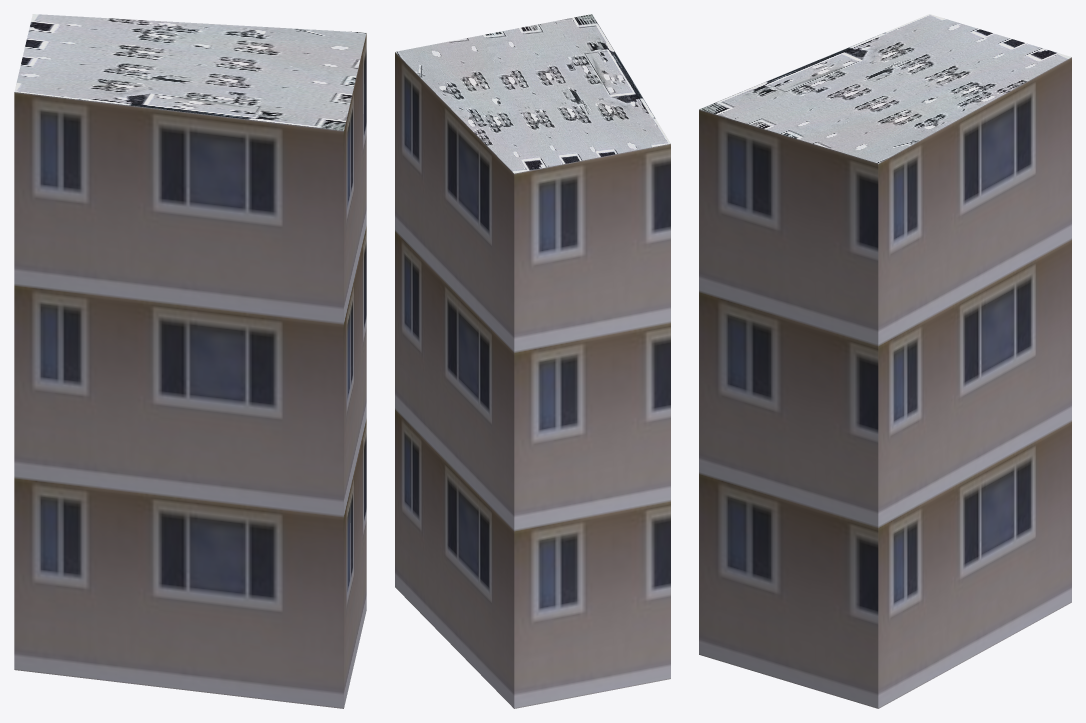
The model's file is ResTex__5207.fbx.
3 views of the same model, side by side, from view 1: azimuth 30°, elevation 25°; view 2: azimuth 150°, elevation 25°; view 3: azimuth 270°, elevation 25° (orthographic). The views are drawn at different scales.
Visible parts, largest first — view 1: CityEngineMaterial_21_m, CityEngineMaterial_4_m; view 2: CityEngineMaterial_21_m, CityEngineMaterial_4_m; view 3: CityEngineMaterial_21_m, CityEngineMaterial_4_m.
Part boxes in pixels (x1,y1,x2,y2): CityEngineMaterial_21_m: [14, 33, 366, 708]; CityEngineMaterial_4_m: [14, 14, 366, 130]; CityEngineMaterial_21_m: [395, 52, 670, 708]; CityEngineMaterial_4_m: [395, 14, 670, 173]; CityEngineMaterial_21_m: [699, 57, 1071, 708]; CityEngineMaterial_4_m: [699, 14, 1071, 163].
Bounding box in the file's own units: 5.3 × 9 × 5.58.
2 materials, 2 textured.
